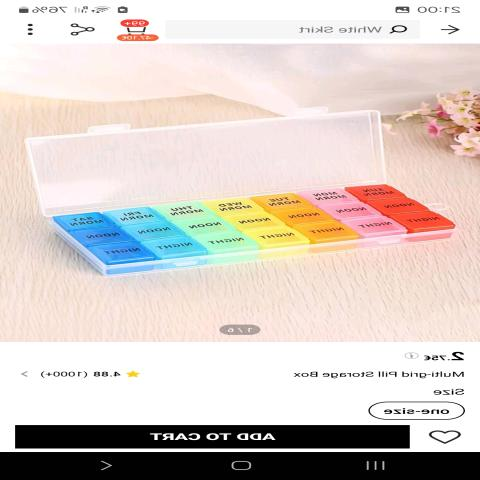Pill-box: (38, 87, 433, 302)
